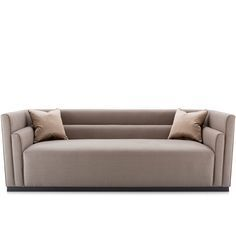3seatersofa: (2, 109, 235, 191)
backrest: (61, 109, 175, 138)
leftarmrest: (202, 112, 235, 187)
leg: (8, 186, 228, 191)
pillow: (168, 109, 207, 141), (29, 109, 66, 141)
rightarmrest: (3, 110, 33, 185)
seat: (24, 140, 213, 185)
